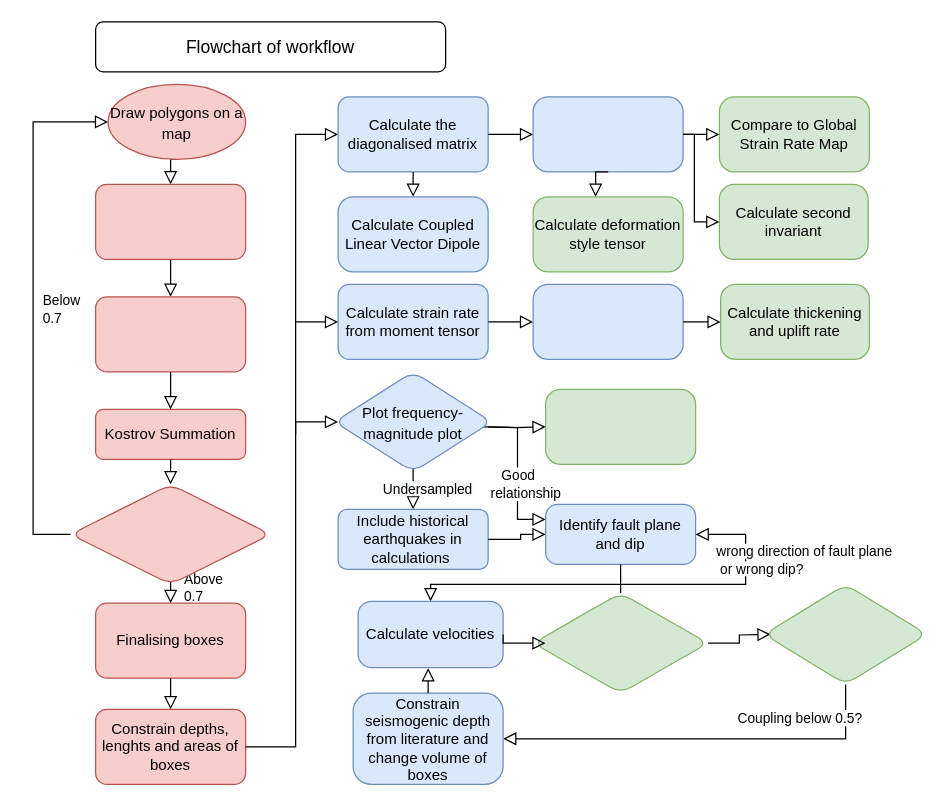
This 949x806 diagram has some shape labels left out. Each missing label, with the centre of its shape:
Calculate b-value: point (620, 426)
Calculate principal strain rates: point (607, 134)
Calculate seismic coupling: point (845, 633)
Calculate the seismic consistency: point (170, 533)
Compare to GPS data: point (620, 642)
Download and import CMT data: point (170, 221)
Identify coherent deformation: point (170, 334)
Transform to Cartesian coordinates: point (607, 321)
